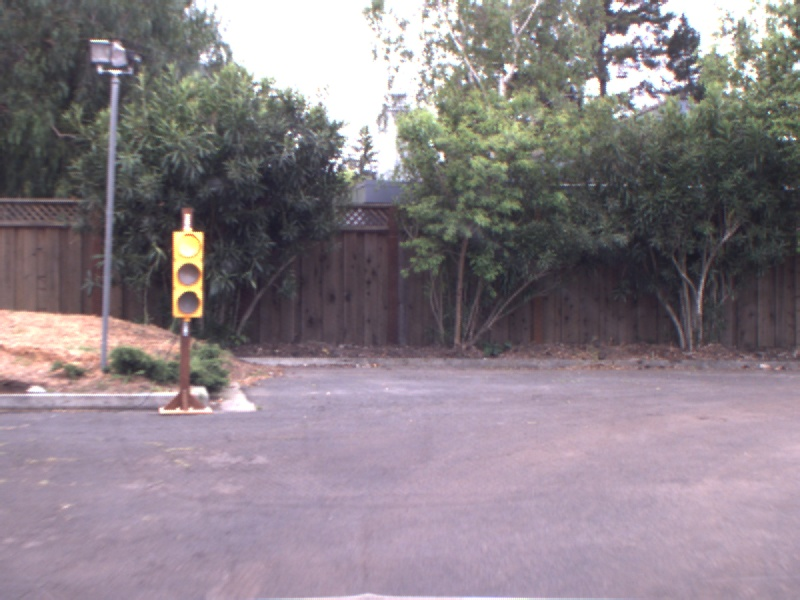red: (165, 223, 210, 321)
